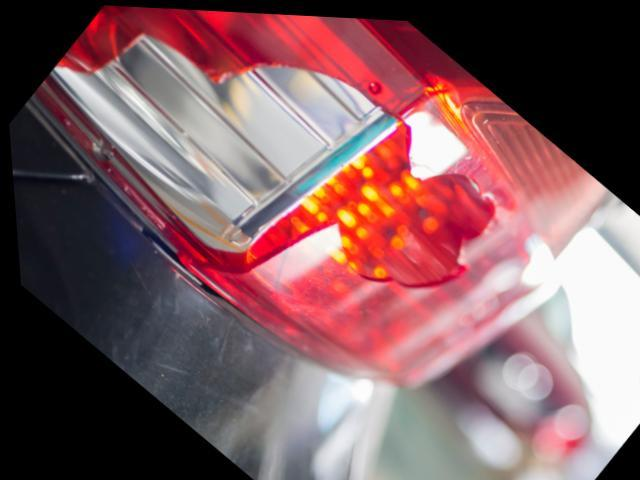lamp broken: (29, 4, 613, 380)
